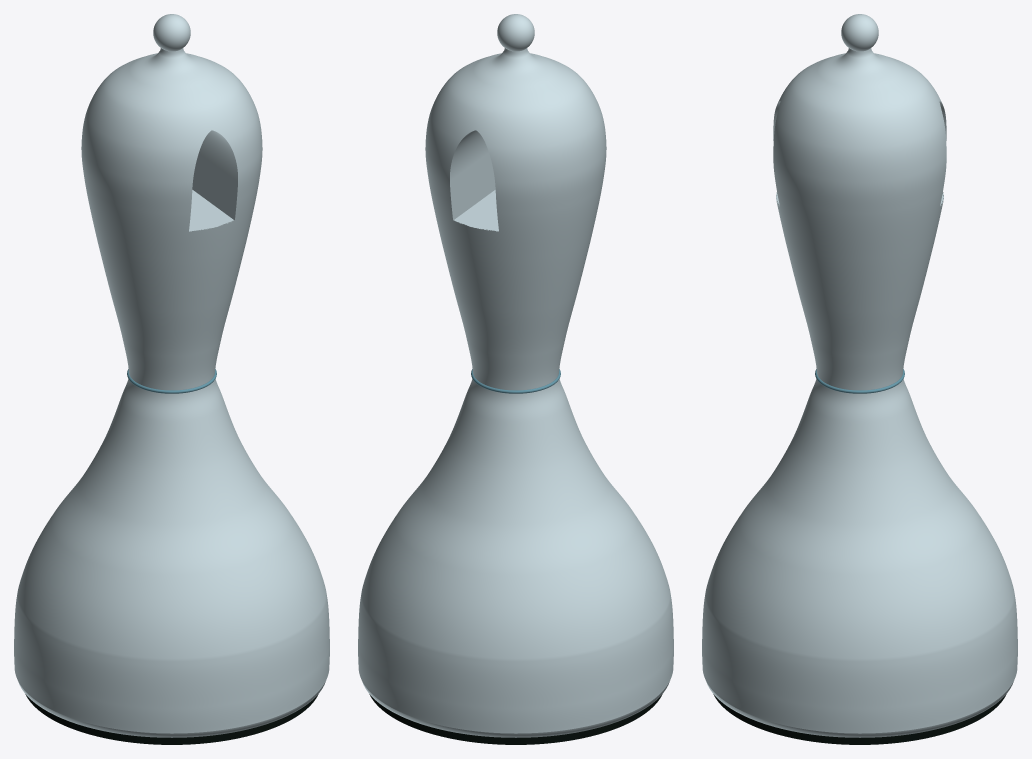
Rendered from Messenger.obj.
3 renders of one model, left to right at view 1: azimuth 30°, elevation 25°; view 2: azimuth 150°, elevation 25°; view 3: azimuth 270°, elevation 25°, orthographic.
Parts seen in each view (by area): view 1: body, arch_wall_2, felt_pad, base_bevel, finial, arch_wall_1; view 2: body, arch_wall_2, felt_pad, base_bevel, finial, arch_wall_1; view 3: body, felt_pad, base_bevel, finial.
Boxes of the visible parts, <box> form: body: <box>14,48,329,733</box>; arch_wall_2: <box>192,130,237,220</box>; felt_pad: <box>25,694,318,744</box>; base_bevel: <box>18,681,325,737</box>; finial: <box>153,14,190,51</box>; arch_wall_1: <box>189,190,233,231</box>; body: <box>358,48,673,733</box>; arch_wall_2: <box>450,130,495,220</box>; felt_pad: <box>369,694,662,744</box>; base_bevel: <box>362,681,669,737</box>; finial: <box>497,14,534,51</box>; arch_wall_1: <box>454,190,498,231</box>; body: <box>702,48,1017,733</box>; felt_pad: <box>713,694,1006,744</box>; base_bevel: <box>706,681,1013,737</box>; finial: <box>841,14,878,51</box>.
Size of the model in its own units: 0.0462 by 0.1074 by 0.0462.
